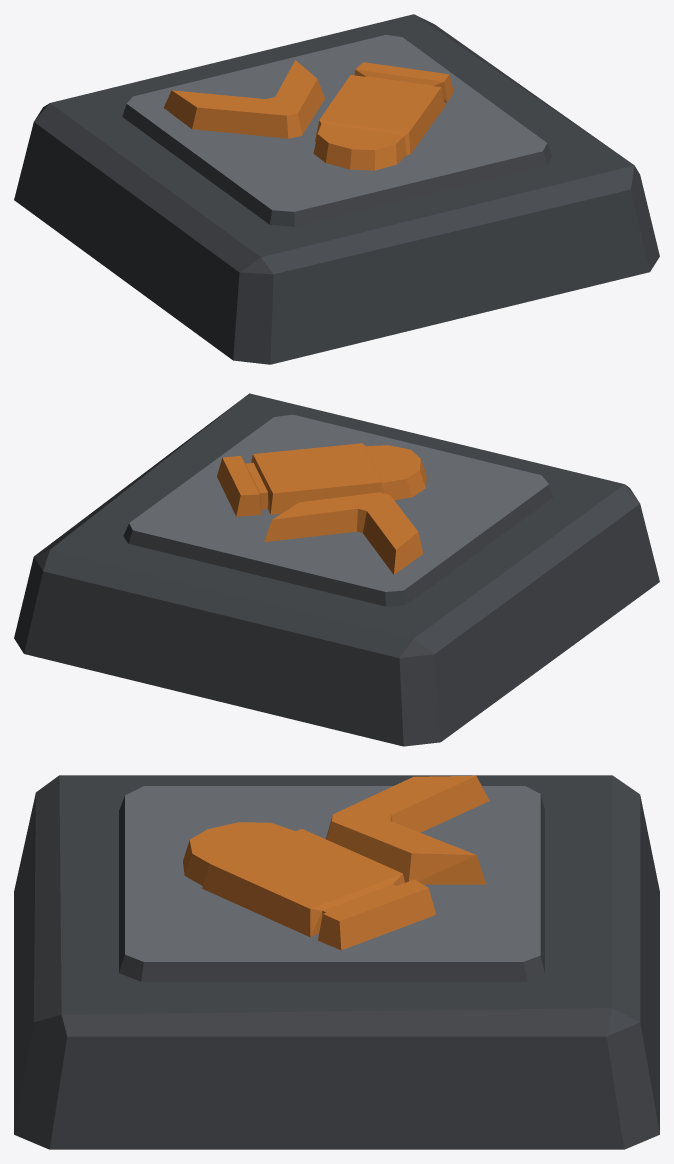
Rendered from PowerUp_Damage.fbx.
3 views of the same model, one above another, from view 1: azimuth 30°, elevation 25°; view 2: azimuth 150°, elevation 25°; view 3: azimuth 270°, elevation 25° (orthographic). The views are drawn at different scales.
Parts seen in each view (by area): view 1: PowerUp_Damage; view 2: PowerUp_Damage; view 3: PowerUp_Damage.
Boxes of the visible parts, x1,y1,x2,y2 form: PowerUp_Damage: (14, 14, 659, 364); PowerUp_Damage: (14, 393, 659, 746); PowerUp_Damage: (14, 775, 659, 1149).
Bounding box in the file's own units: 0.5687 × 0.161 × 0.5687.
